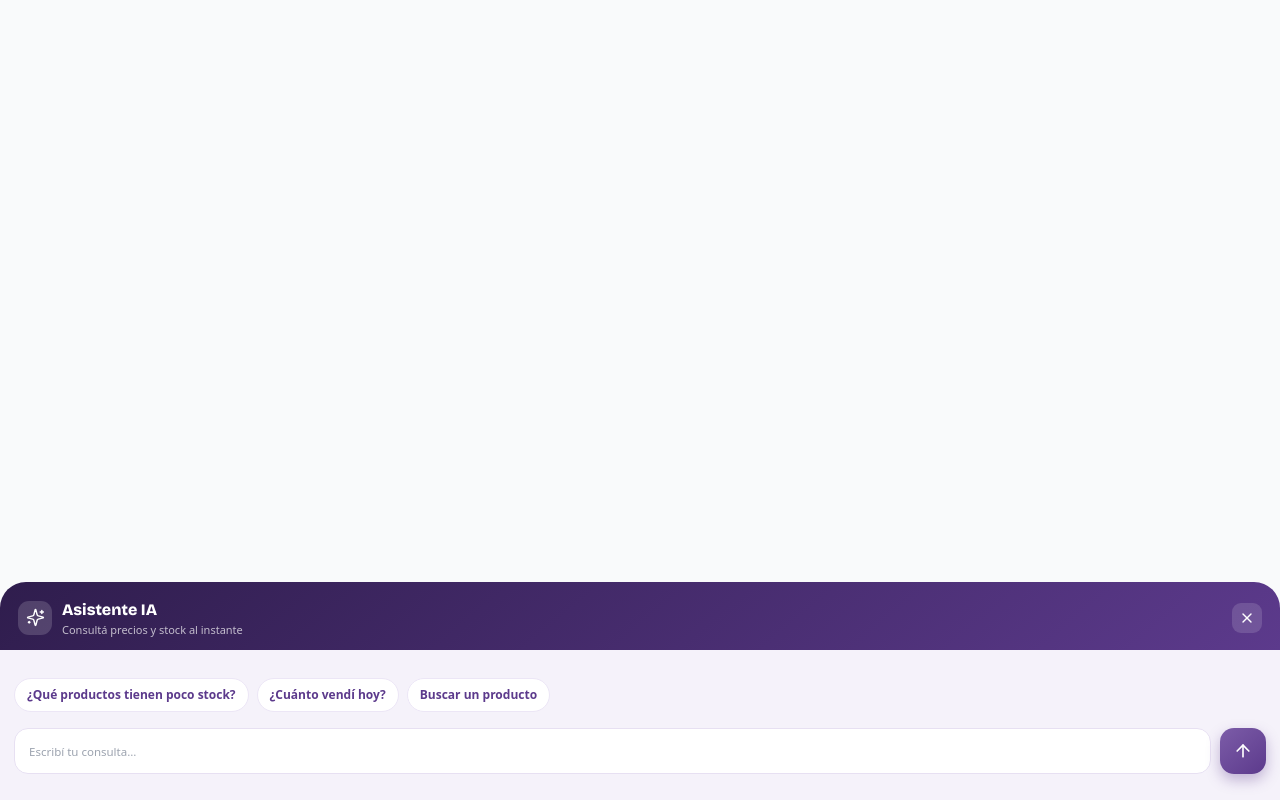
Test: AIAssistantSheet — real send/receive flow › appends a user bubble immediately and an assistant bubble once aiService.chat resolves
The width and height of the screenshot is (1280, 800).
Step 1. Type "Precio del producto P1" into the field with placeholder "Escribí tu consulta…" → x=612, y=751, box [14,728,1211,774]
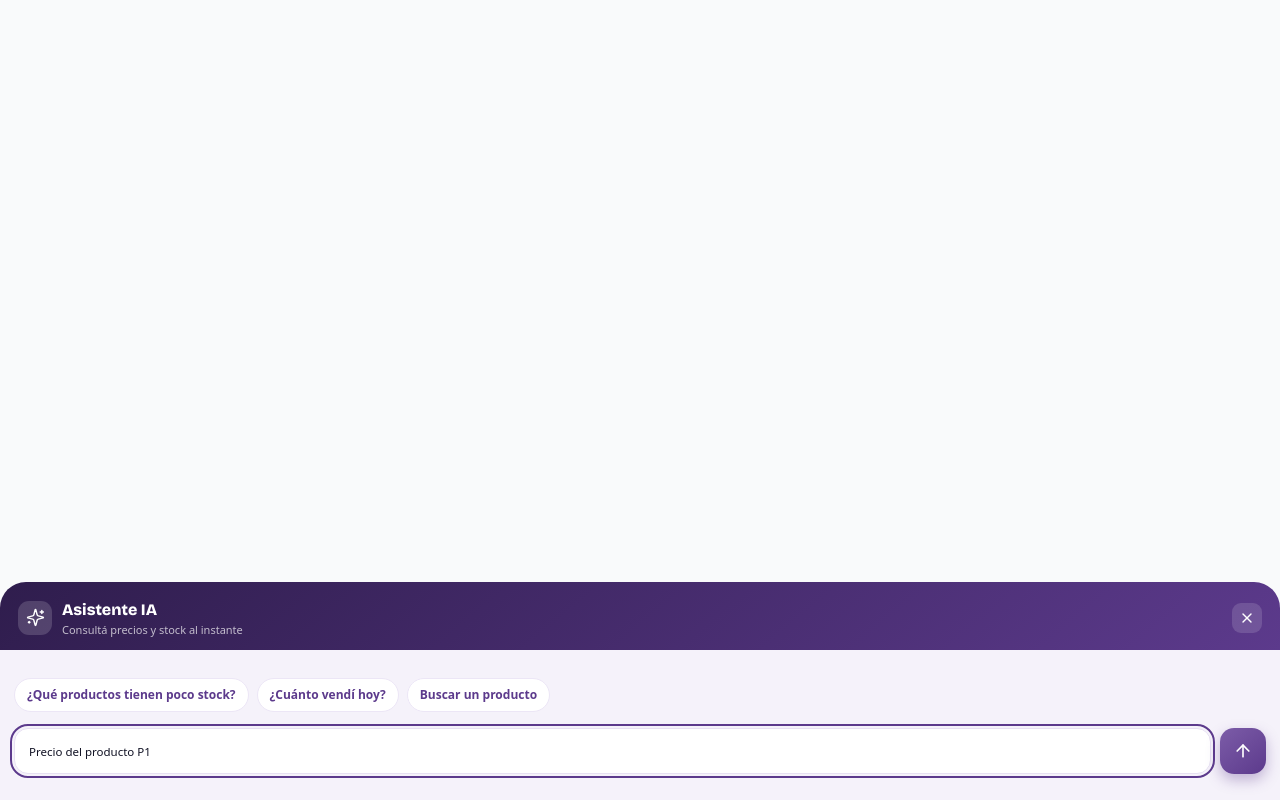
Step 2. Click the button named "enviar" → x=1243, y=751, box [1220,728,1266,774]
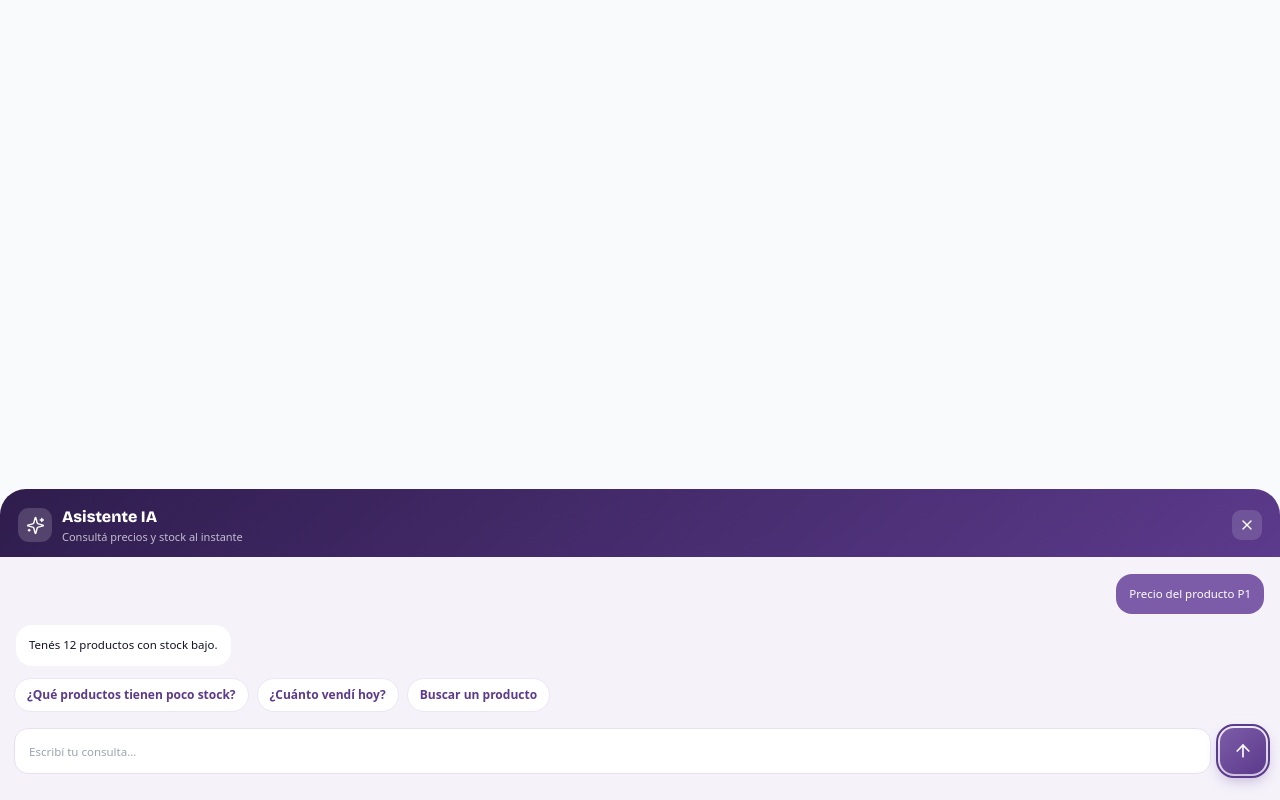
Expected: the text "Precio del producto P1" is shown, [1116,574,1264,614]
Expected: the text "Tenés 12 productos con stock bajo." is shown, [16,625,230,666]
